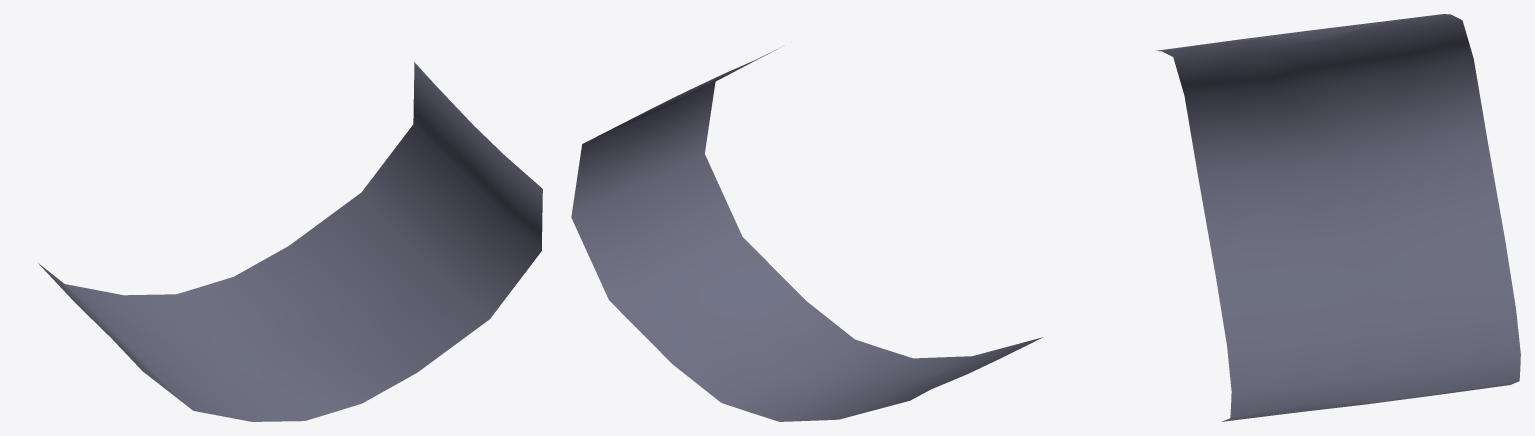
File: Arctic_Luge_Tunnel_Right_15_Mid_A.glb
3 renders of one model, left to right at view 1: azimuth 30°, elevation 25°; view 2: azimuth 150°, elevation 25°; view 3: azimuth 270°, elevation 25°, orthographic. The views are drawn at different scales.
Parts seen in each view (by area): view 1: Arctic_Luge_Tunnel_Right_15_Mid_A; view 2: Arctic_Luge_Tunnel_Right_15_Mid_A; view 3: Arctic_Luge_Tunnel_Right_15_Mid_A.
Boxes of the visible parts, left/top/right/bottom form: Arctic_Luge_Tunnel_Right_15_Mid_A: left=38, top=62, right=542, bottom=421; Arctic_Luge_Tunnel_Right_15_Mid_A: left=571, top=49, right=1042, bottom=421; Arctic_Luge_Tunnel_Right_15_Mid_A: left=1156, top=14, right=1520, bottom=421.
Size of the model in its own units: 4.44 by 3.49 by 3.13.
